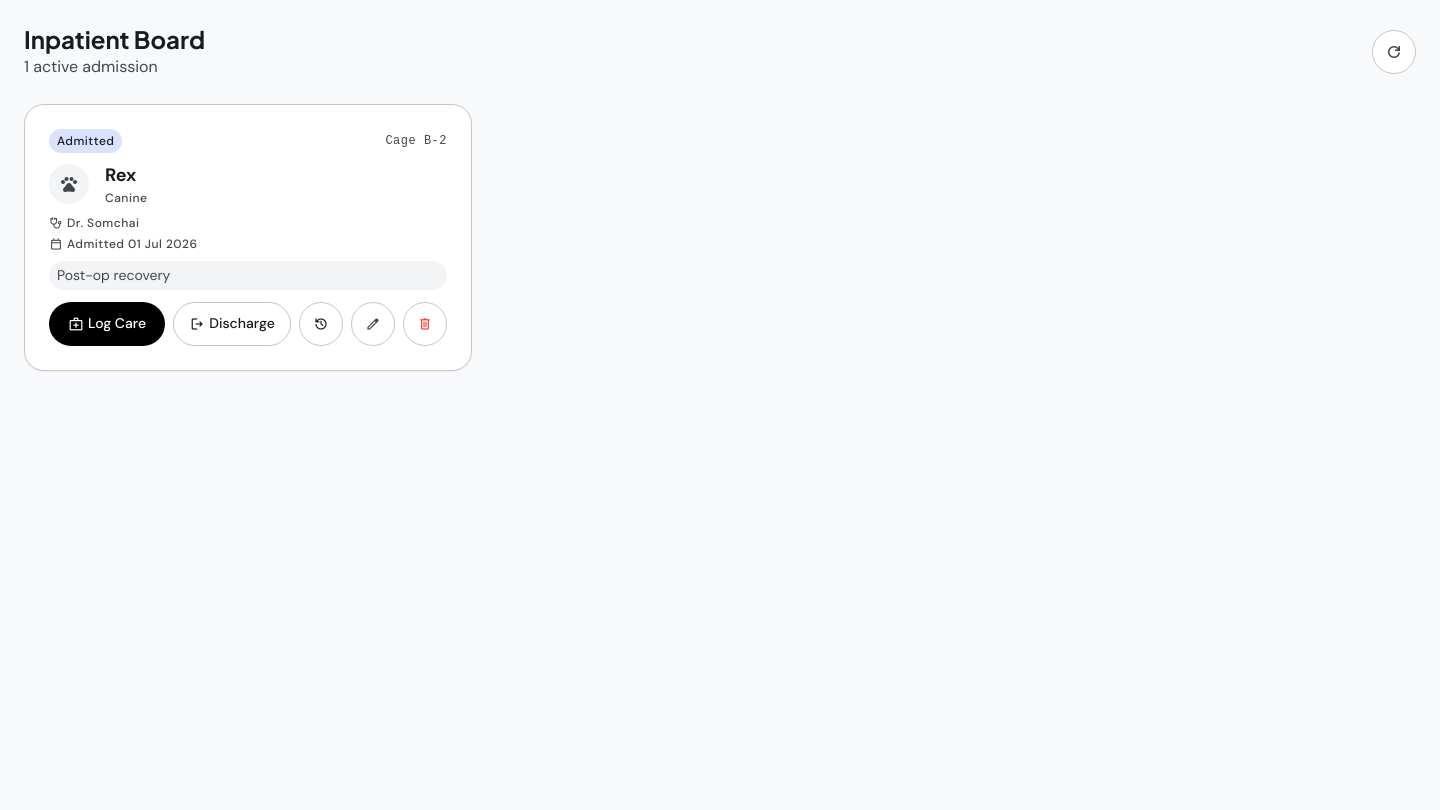
it: ClinicInpatient — Edit modal close paths (Gate 0, G1) › backdrop click unmounts the edit modal
Expected: the text "Rex" is shown, x1=105 y1=163 x2=136 y2=187
Click the button named "Edit admission" at (373, 324), box x1=351 y1=302 x2=395 y2=346
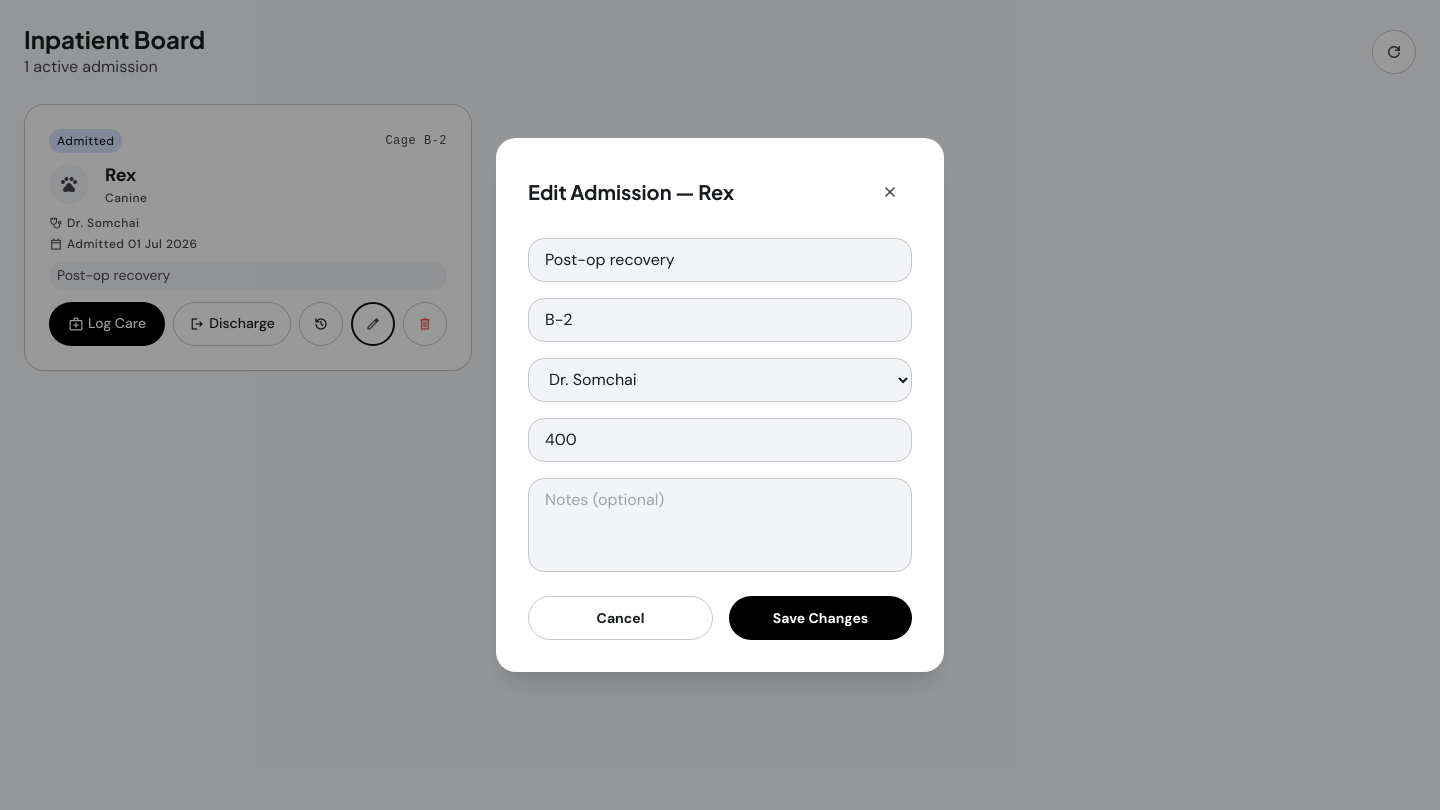
Now the heading "Edit Admission — Rex" is shown, box x1=528 y1=179 x2=734 y2=205
Click the element showing "Edit Admission — Rex Cancel Save Changes" at (86, 405), box x1=0 y1=0 x2=1439 y2=809
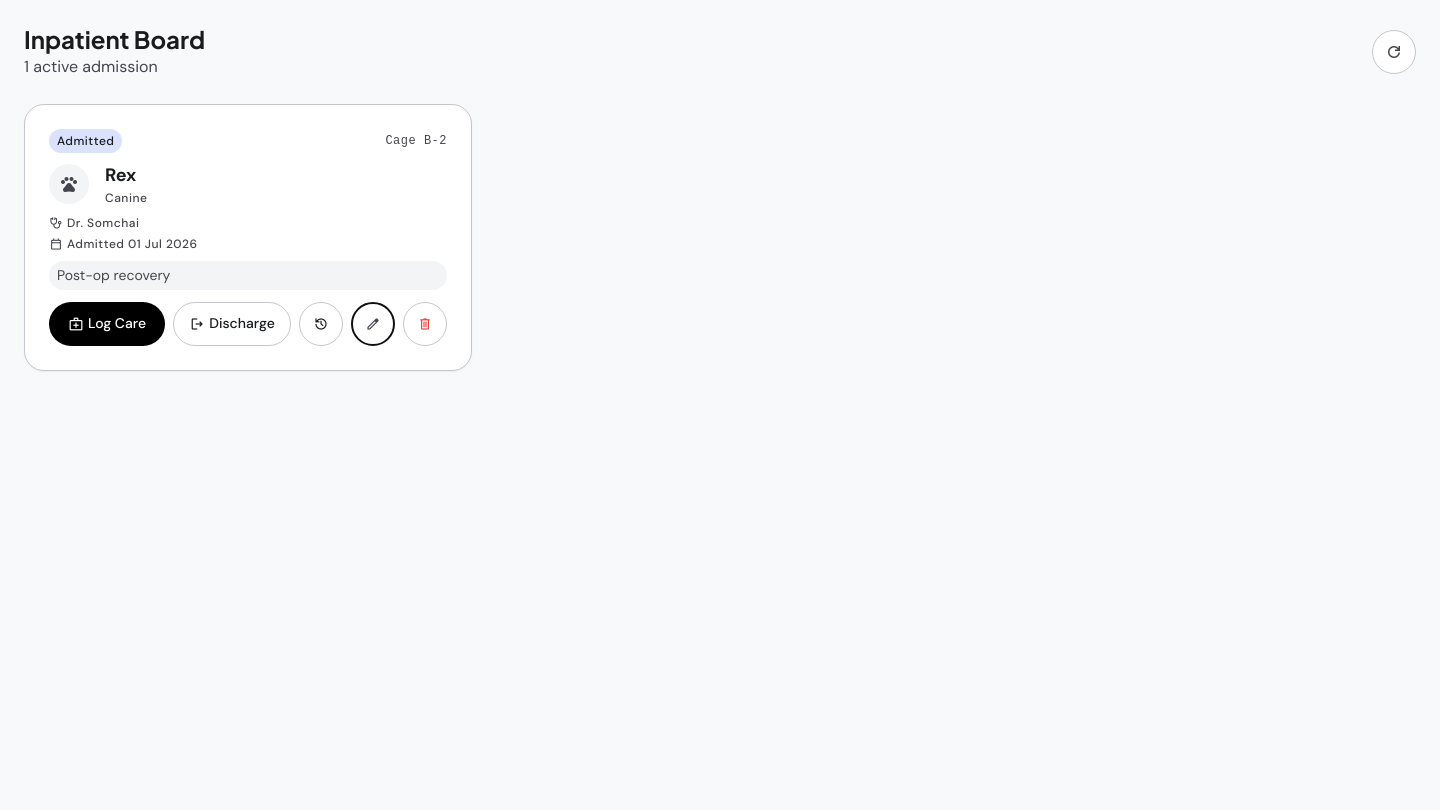
Now the heading "Edit Admission — Rex" is gone
